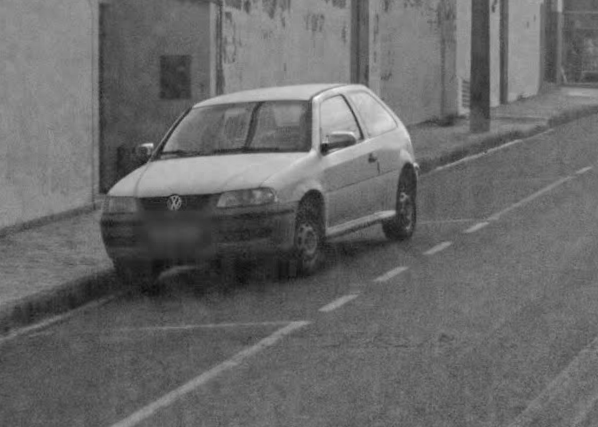car: (93, 75, 424, 291)
